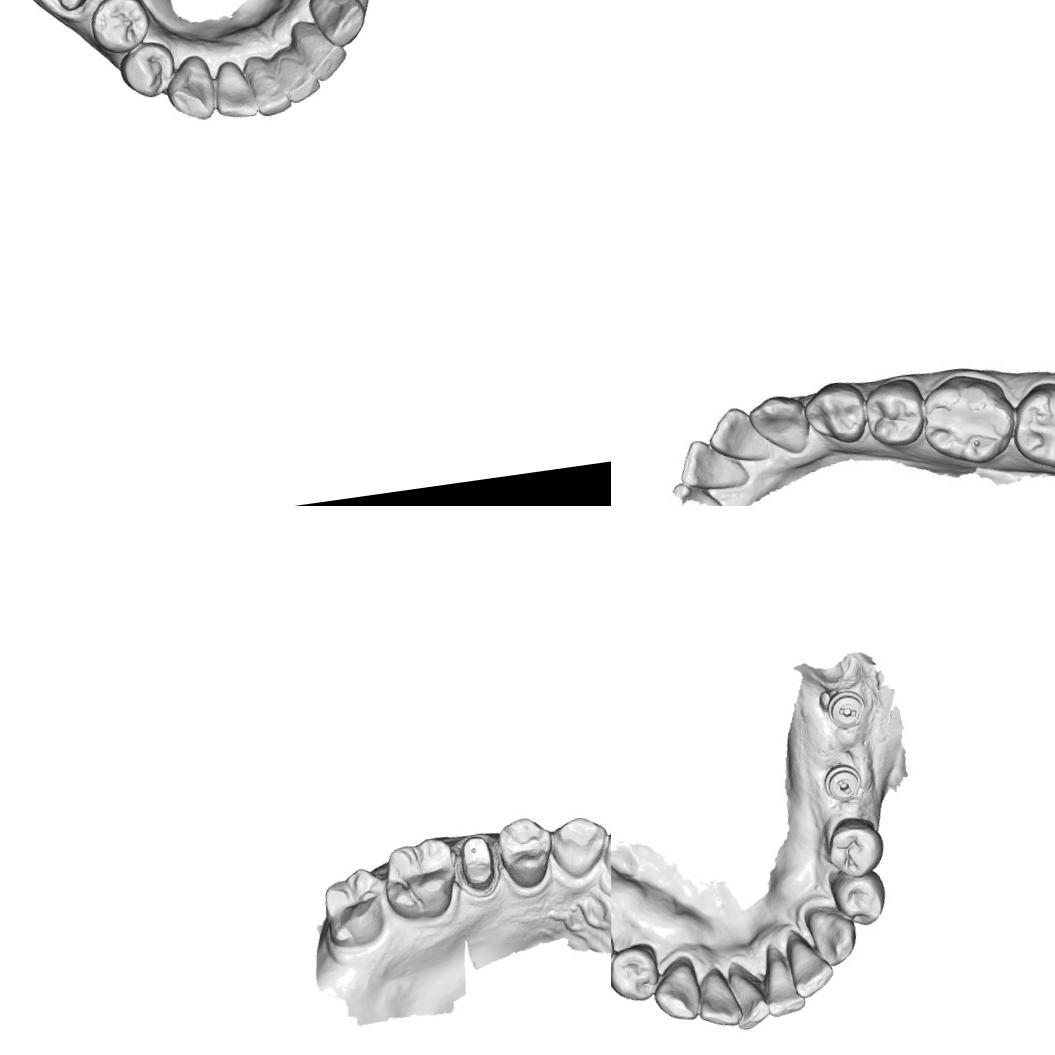canine: (160, 50, 221, 130), (546, 810, 611, 885), (748, 390, 815, 460), (794, 902, 862, 970), (649, 949, 704, 1028), (307, 0, 371, 50)
crown: (453, 830, 504, 898)
implant_minus: (820, 761, 866, 808), (825, 686, 869, 734)
incisor: (674, 432, 752, 498), (701, 399, 768, 473), (290, 13, 354, 84), (207, 48, 261, 122), (783, 932, 838, 1002), (757, 950, 810, 1020), (244, 44, 294, 118), (693, 964, 746, 1032), (725, 966, 773, 1032), (273, 44, 321, 108), (598, 824, 611, 886)
molar: (919, 370, 1018, 470), (379, 834, 466, 926), (316, 862, 393, 950), (1008, 374, 1055, 475)
premolar: (864, 372, 932, 454), (492, 814, 560, 895), (800, 378, 872, 446), (115, 32, 180, 103), (84, 0, 155, 62), (823, 818, 890, 883), (611, 939, 665, 1005), (829, 870, 890, 928)
